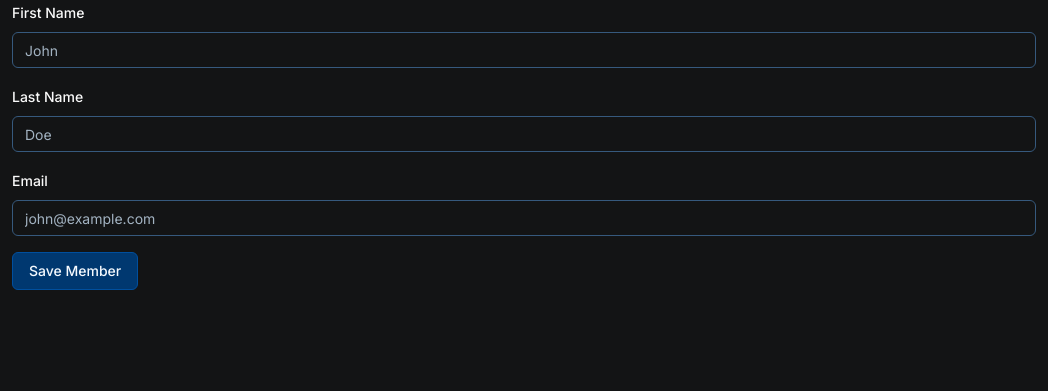
Test: MemberForm Integration › validates required fields before submission
This screenshot has width=1048, height=391.
Click the button "Save Member": click(75, 271) [12,252,138,290]
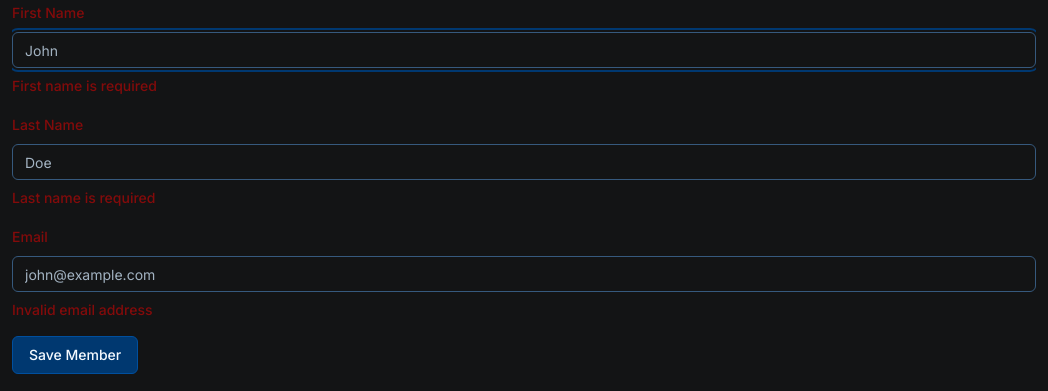
Expected: the text "First name is required" is shown, [12,77,157,94]
Expected: the text "Last name is required" is shown, [12,189,156,206]
Expected: the text "Invalid email address" is shown, [12,301,152,318]
